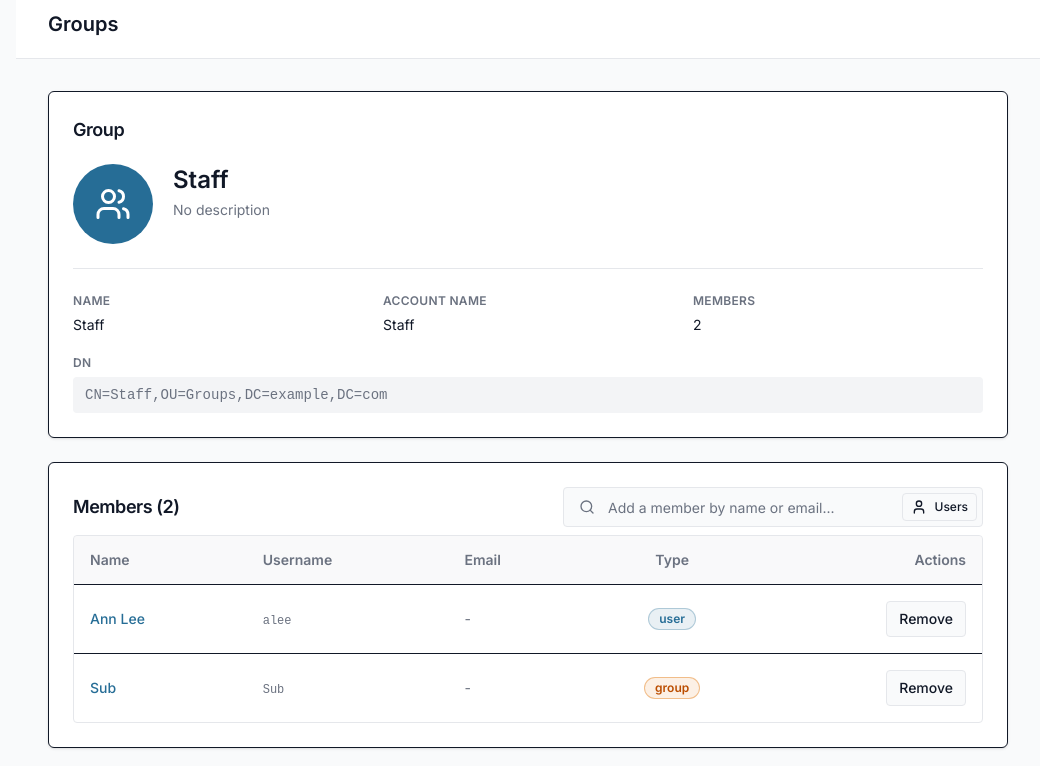
Test: GroupPage member management › adding a group › starts in user mode and searches groups, not users, after switching
Expected: the field with placeholder "Add a member by name or email..." is shown, [563,487,983,527]
Step 1. Click the button with aria-label "Search groups" → x=939, y=507, box [902,493,977,521]
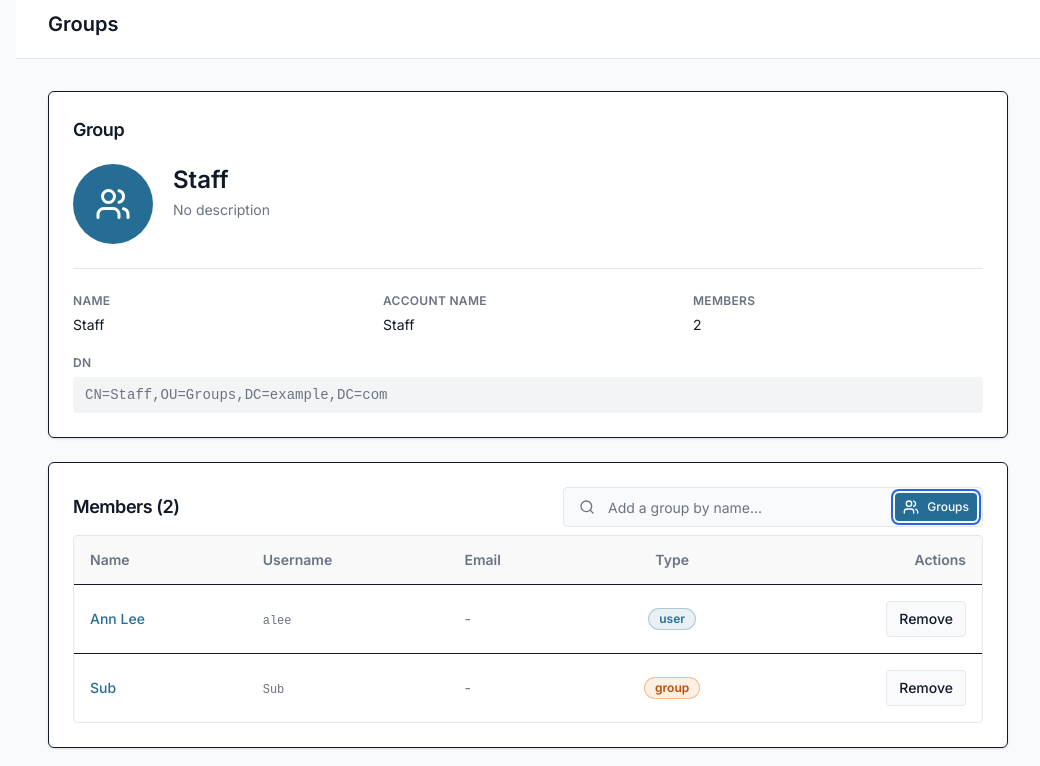
Step 2. Type "con" into the field labelled "Add a group" → x=773, y=507, box [563,487,983,527]
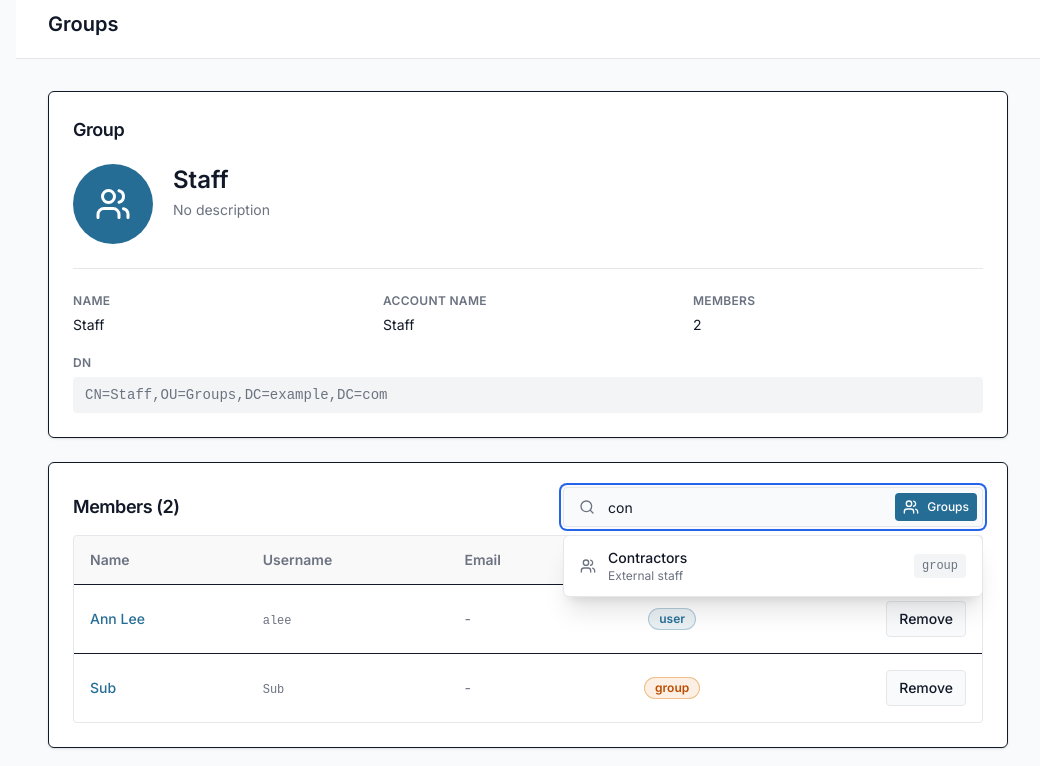
Expected: the button "Contractors External staff group" is shown, [564,536,982,596]
